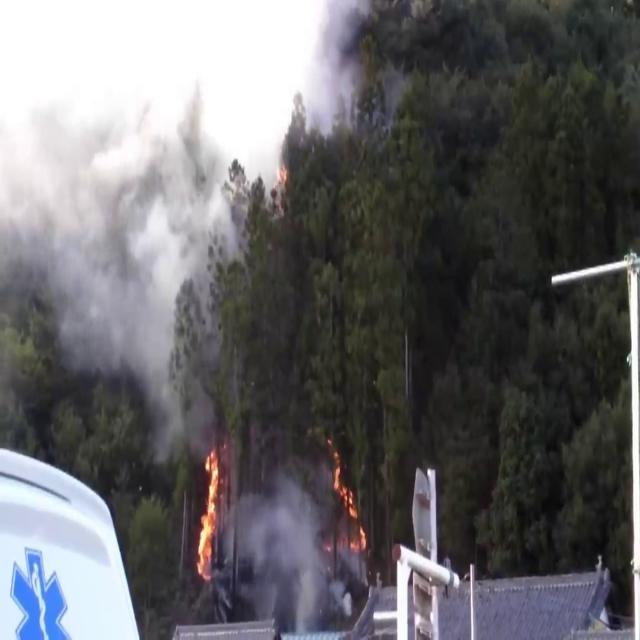Fire: (328, 438, 367, 558), (194, 440, 224, 580)
Smoke: (0, 9, 241, 423), (234, 450, 334, 636)
